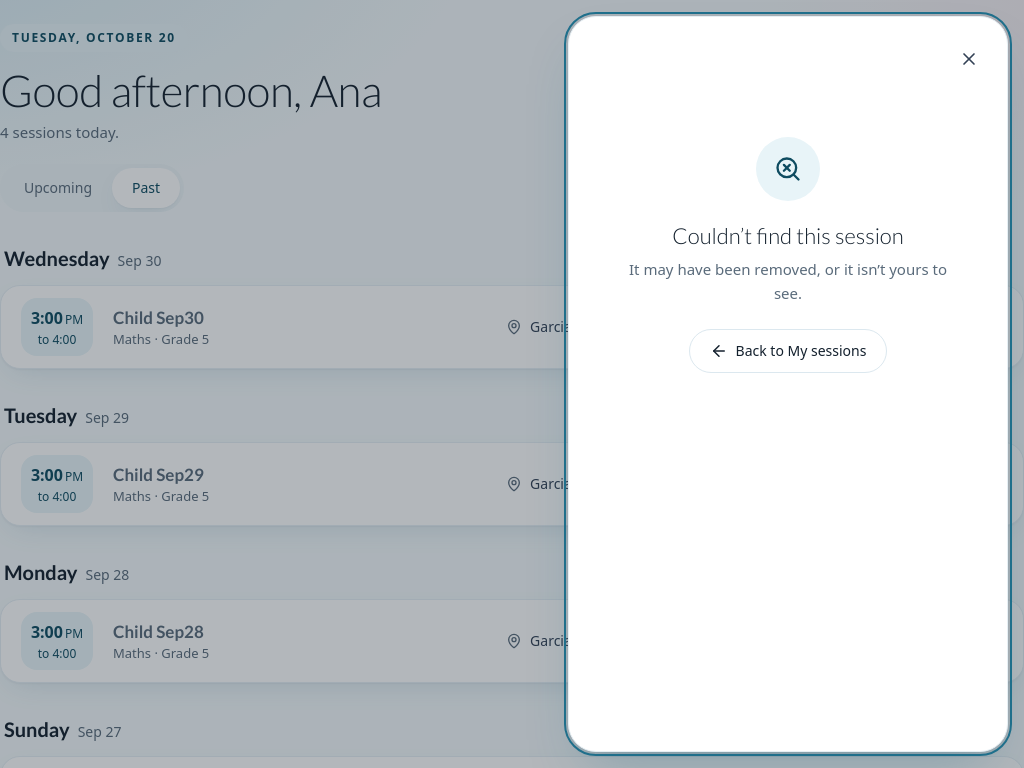
Test: at 1280 px › Session details › shows not found, with a way back, for an unknown or someone else's session
Expected: the heading "Couldn’t find this session" is shown, [672, 221, 904, 251]
Click the button "Back to My sessions" at (788, 351), box [688, 329, 887, 373]
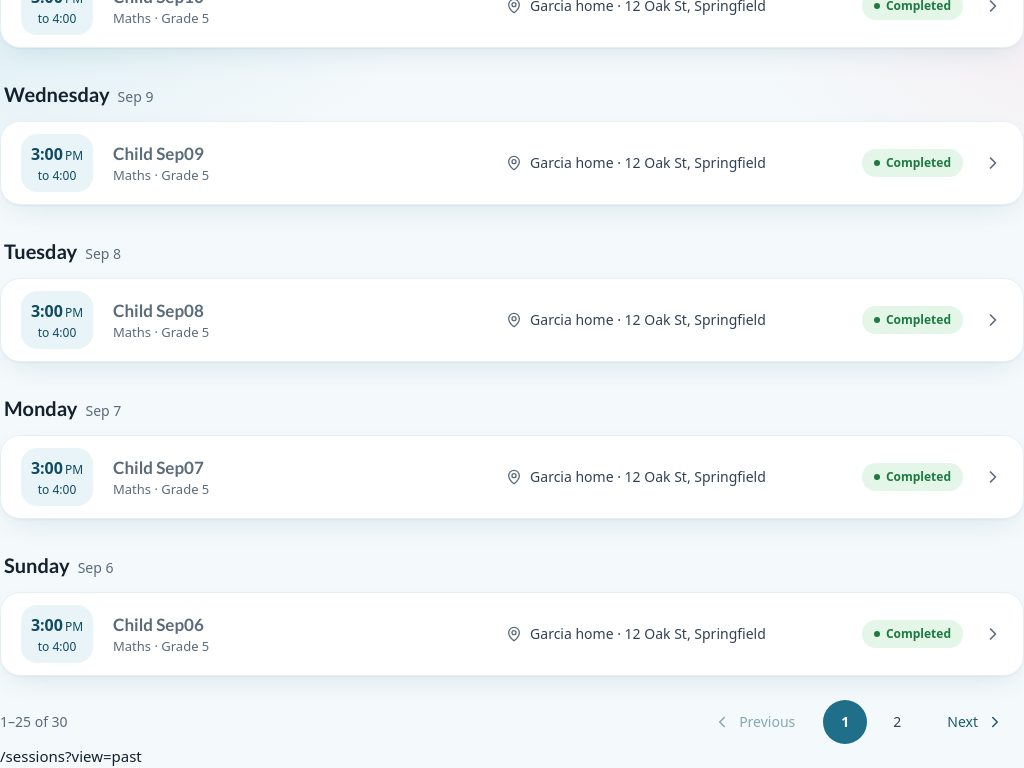
Now the text with test id "location" reads "/sessions?view=past", box [0, 746, 142, 766]
